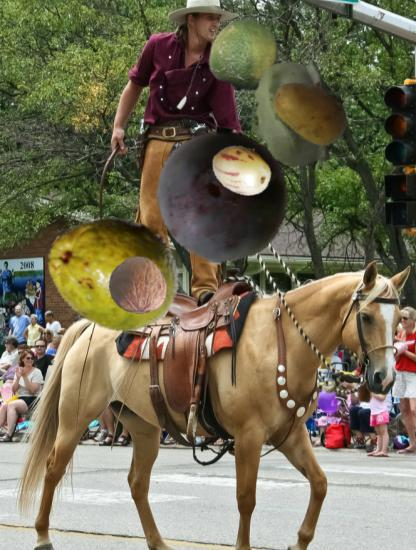Guava: (48, 204, 182, 338)
Kohlrabi: (240, 57, 353, 170)
Limes: (208, 18, 281, 91)
Pepino: (212, 141, 272, 201)
Plum: (154, 128, 291, 265)
Potato: (271, 71, 353, 153)
Walnut: (108, 256, 168, 316)
